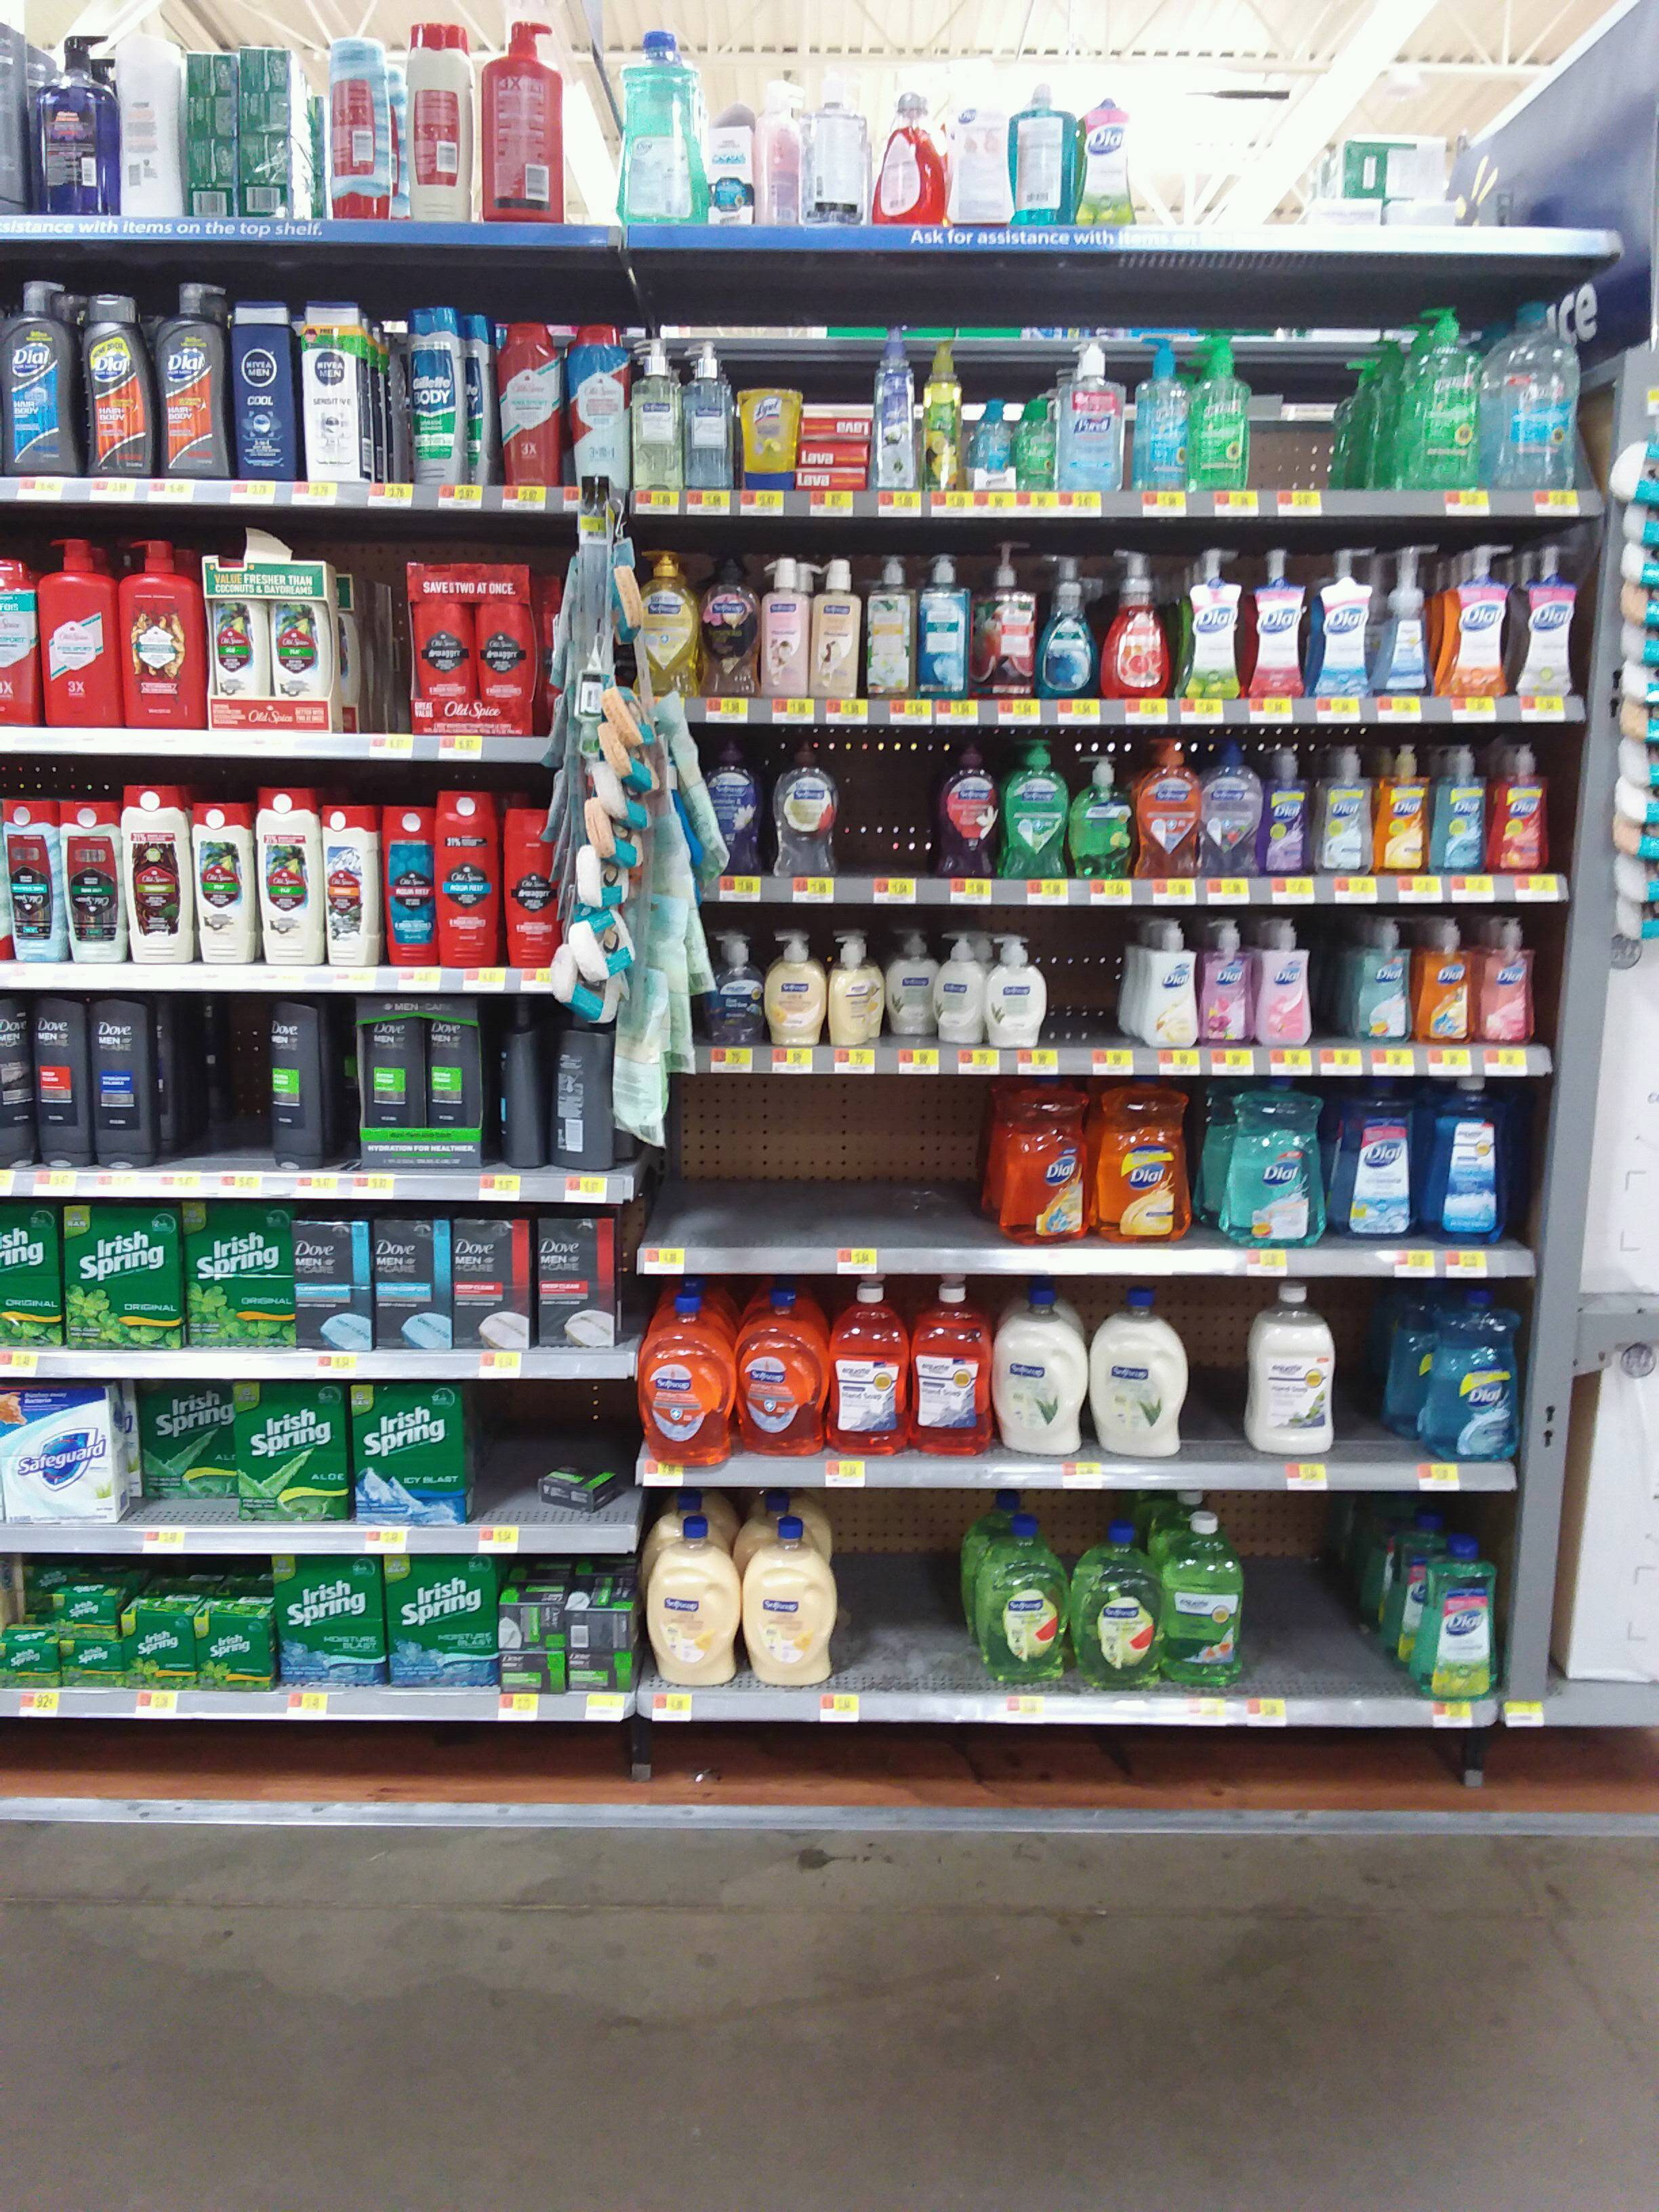Out-of-stock: (655, 1078, 985, 1238), (838, 752, 941, 883)
